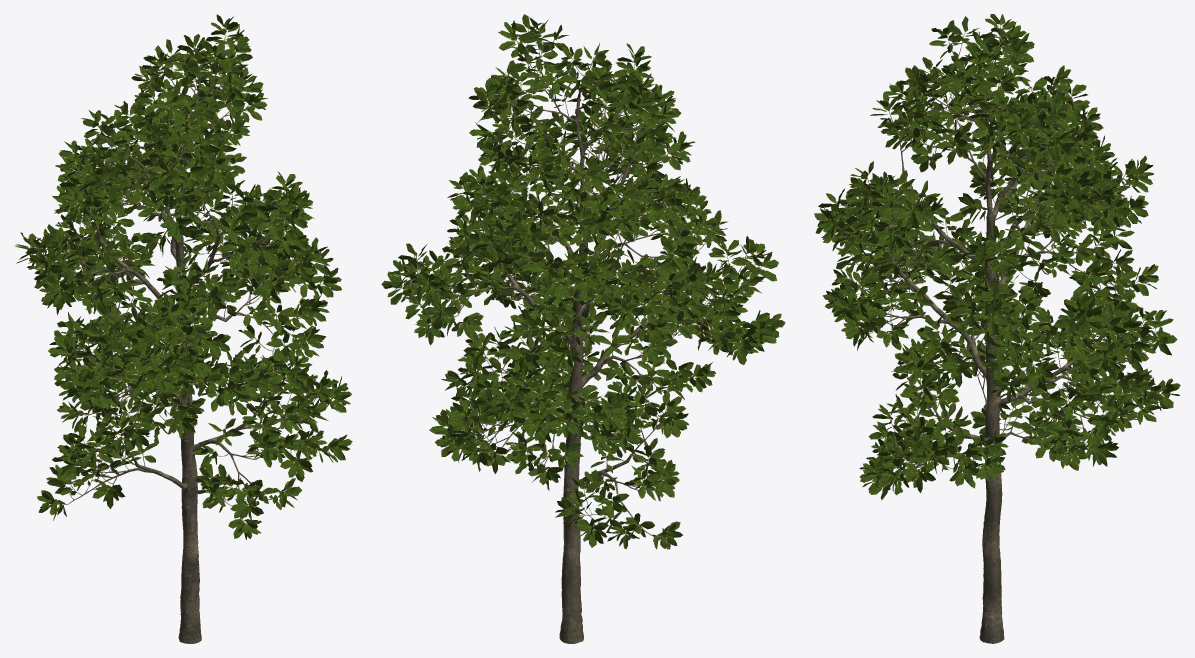
Rendered from tree041.glb.
3 renders of one model, left to right at view 1: azimuth 30°, elevation 25°; view 2: azimuth 150°, elevation 25°; view 3: azimuth 270°, elevation 25°, orthographic. The views are drawn at different scales.
Parts seen in each view (by area): view 1: tree04; view 2: tree04; view 3: tree04.
Boxes of the visible parts, box(x1,y1,x2,y2) form: tree04: box(14, 14, 352, 643); tree04: box(381, 14, 785, 643); tree04: box(814, 14, 1180, 643).
Size of the model in its own units: 4.97 by 8.9 by 4.76.
Materials: 2 (2 with a texture image).
